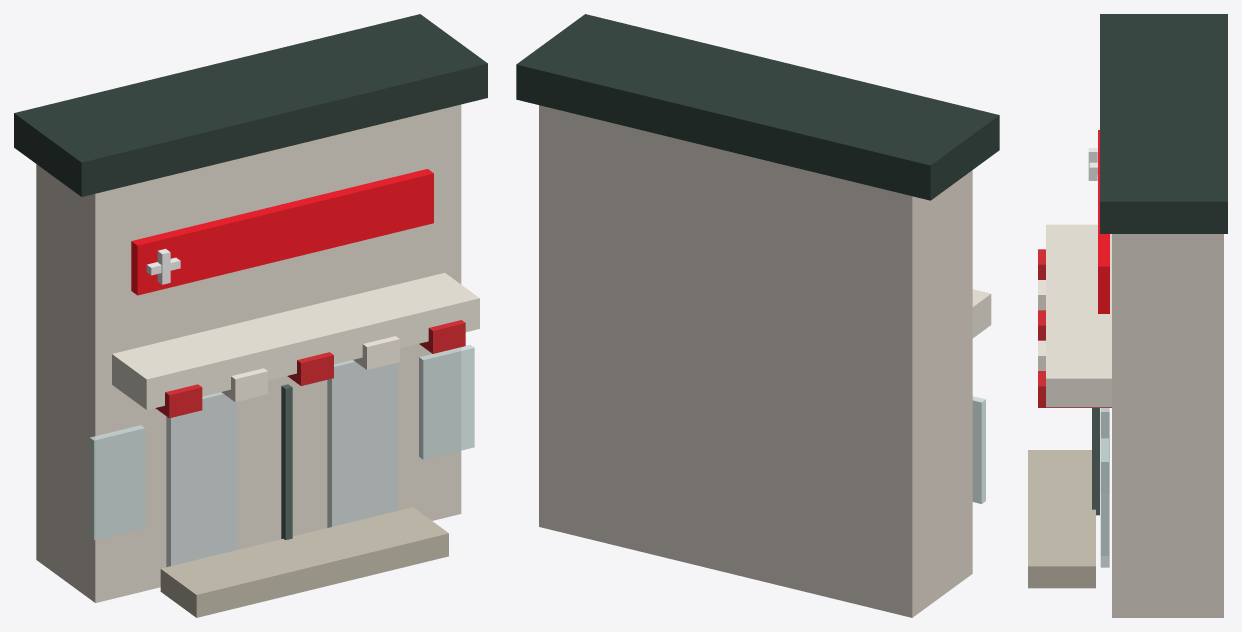
File: pharmacy_facade.glb
3 views of the same model, side by side, from view 1: azimuth 30°, elevation 25°; view 2: azimuth 150°, elevation 25°; view 3: azimuth 270°, elevation 25° (orthographic). The views are drawn at different scales.
Parts seen in each view (by area): view 1: body, roof, awning_bar, red_sign, entry_step, glass_door_-0.44, glass_door_0.44, window_-0.9, window_0.9, door_join, awning_0, awning_3 (+3 smaller); view 2: body, roof, window_-0.9, awning_bar; view 3: body, roof, awning_bar, entry_step, glass_door_0.44, red_sign, window_0.9, door_join, awning_4.
Boxes of the visible parts, box(x1,y1,x2,y2) form: body: box(36, 104, 461, 602); roof: box(14, 14, 487, 196); awning_bar: box(112, 273, 479, 409); red_sign: box(131, 169, 433, 295); entry_step: box(160, 507, 448, 617); glass_door_-0.44: box(166, 392, 236, 567); glass_door_0.44: box(327, 360, 397, 527); window_-0.9: box(89, 425, 145, 539); window_0.9: box(419, 344, 474, 459); door_join: box(281, 384, 292, 540); awning_0: box(155, 384, 202, 418); awning_3: box(353, 336, 399, 369); body: box(539, 105, 972, 617); roof: box(516, 14, 999, 200); window_-0.9: box(972, 396, 985, 503); awning_bar: box(972, 289, 991, 338); body: box(1112, 234, 1223, 617); roof: box(1100, 14, 1227, 233); awning_bar: box(1046, 224, 1111, 407); entry_step: box(1028, 450, 1095, 588); glass_door_0.44: box(1100, 408, 1109, 567); red_sign: box(1098, 130, 1109, 313); window_0.9: box(1101, 438, 1108, 555); door_join: box(1092, 408, 1099, 515); awning_4: box(1038, 371, 1111, 407).
Bounding box in the file's own units: 2.22 × 2.35 × 1.
